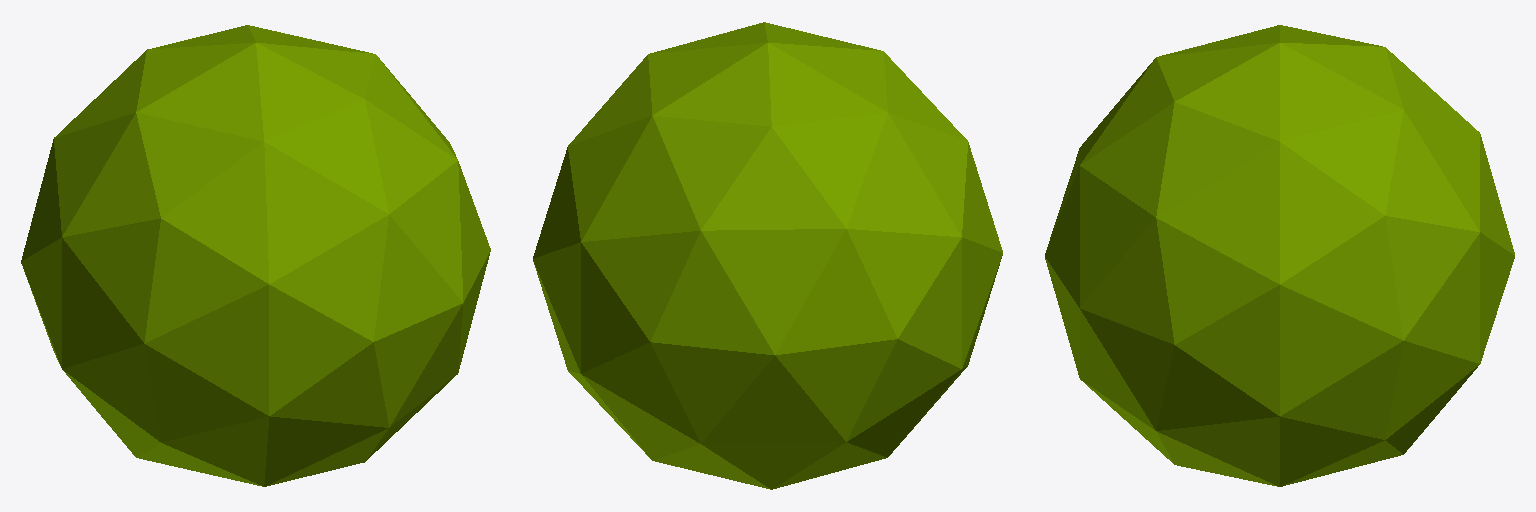
The model's file is blip.obj.
The picture shows the model from 3 angles: view 1: azimuth 30°, elevation 25°; view 2: azimuth 150°, elevation 25°; view 3: azimuth 270°, elevation 25°; orthographic projection.
Visible parts, largest first — view 1: Icosphere; view 2: Icosphere; view 3: Icosphere.
Boxes of the visible parts, box(x1,y1,x2,y2) form: Icosphere: box(21, 25, 490, 486); Icosphere: box(533, 22, 1002, 489); Icosphere: box(1045, 25, 1514, 486).
Bounding box in the file's own units: 0.1902 × 0.2 × 0.2.